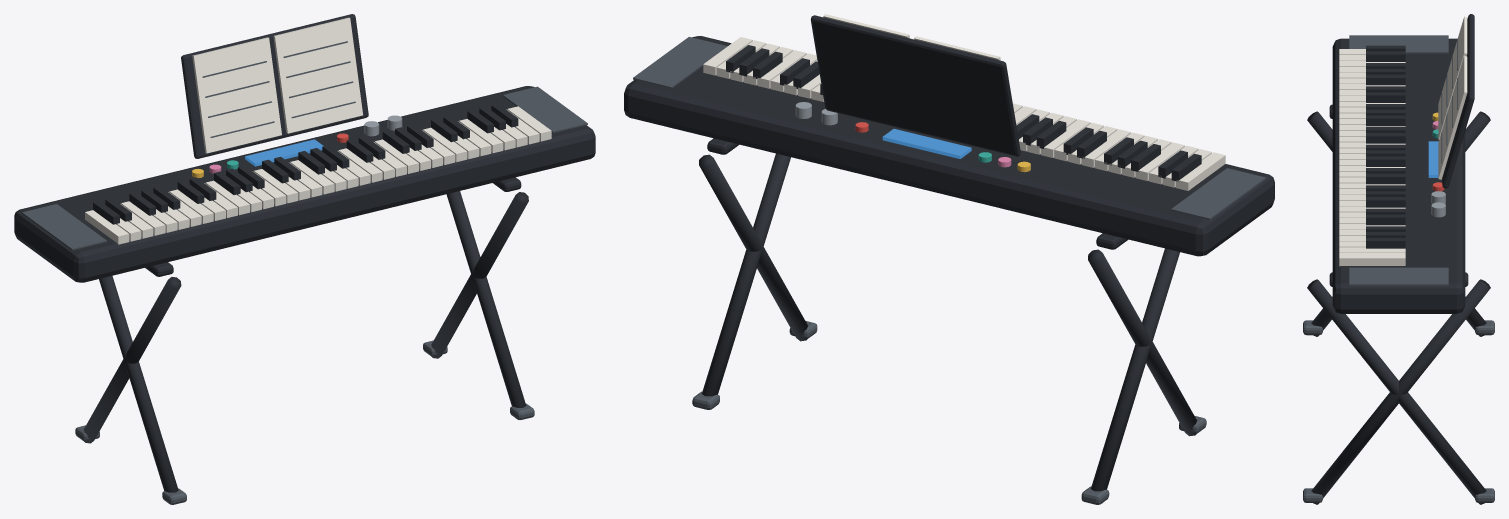
File: teclado.glb
3 renders of one model, left to right at view 1: azimuth 30°, elevation 25°; view 2: azimuth 150°, elevation 25°; view 3: azimuth 270°, elevation 25°, orthographic. The views are drawn at different scales.
Visible parts, largest first — view 1: teclado; view 2: teclado; view 3: teclado.
Boxes of the visible parts, x1,y1,x2,y2 form: teclado: (14,14,595,504); teclado: (624,14,1274,504); teclado: (1303,14,1494,504).
Size of the model in its own units: 1.8 by 1.22 by 0.58.
